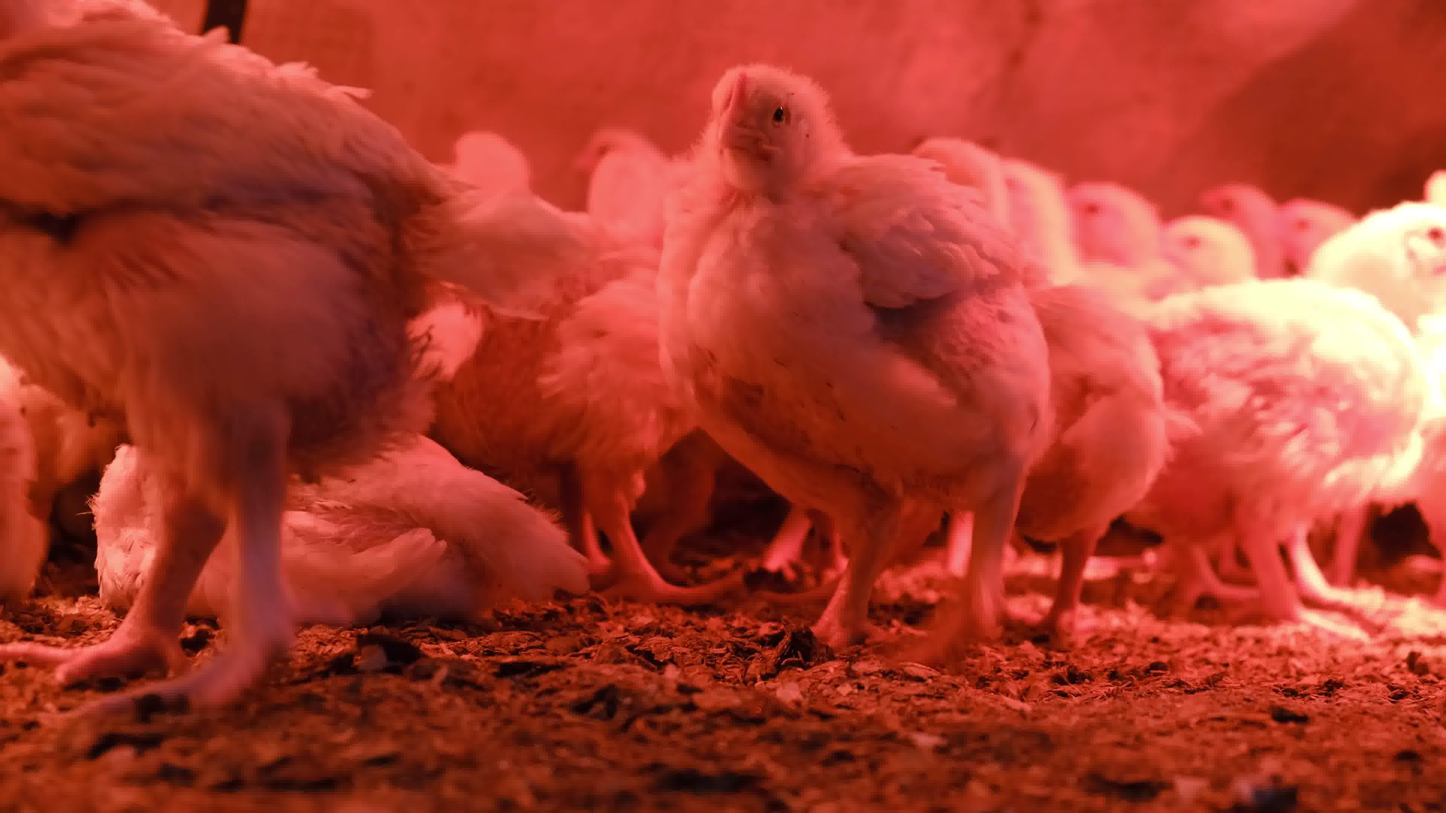AbNormal: (19, 410, 663, 696), (0, 309, 120, 696)
Normal: (0, 0, 461, 734), (661, 45, 1064, 677), (1100, 194, 1446, 647), (921, 102, 1181, 666), (557, 130, 772, 600), (420, 62, 576, 386), (1218, 124, 1382, 346), (1062, 143, 1197, 365), (1132, 184, 1273, 367)
